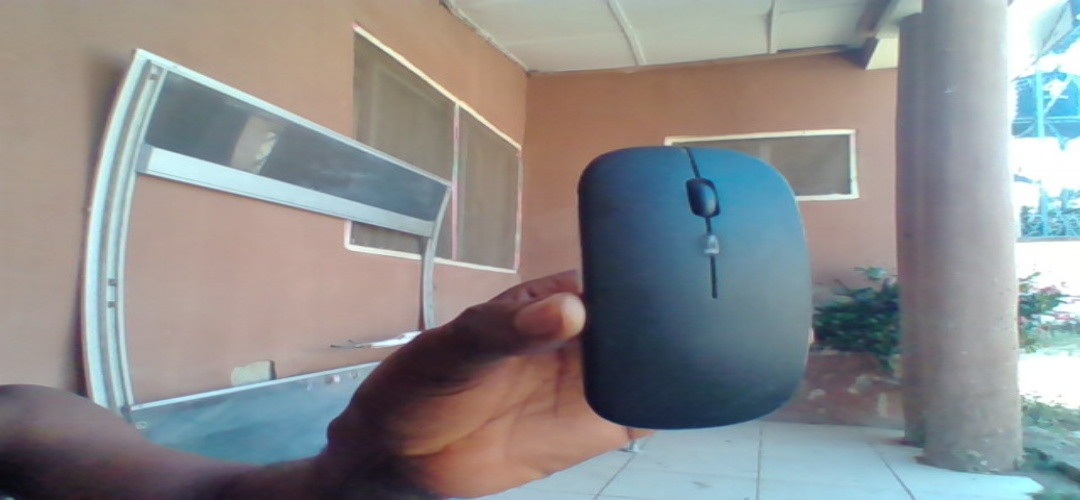wireless_mouse: (569, 140, 811, 434)
